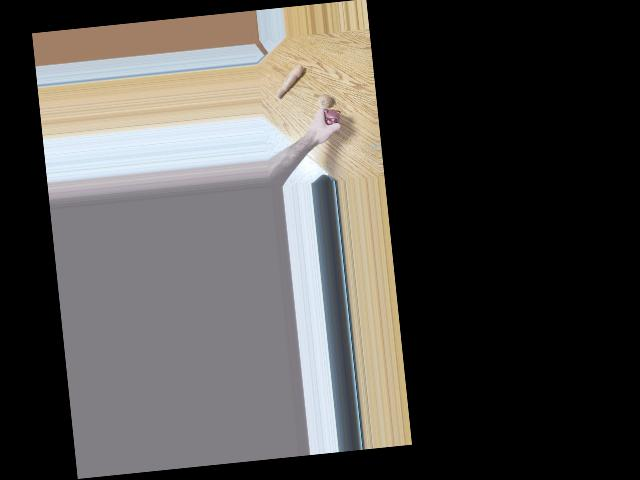onion: (316, 92, 333, 111)
